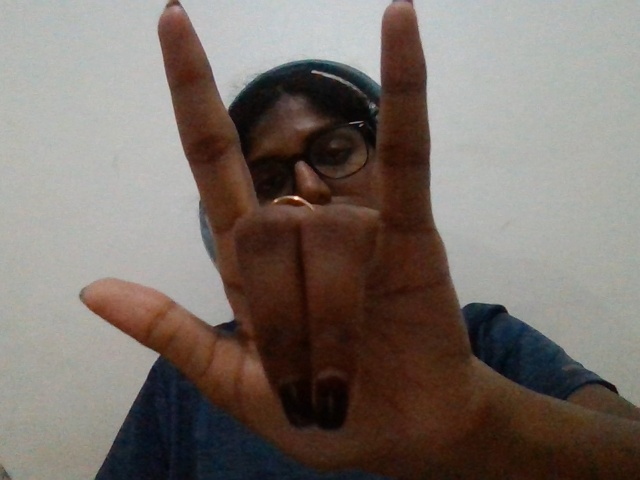I Love You: (38, 3, 555, 465)
